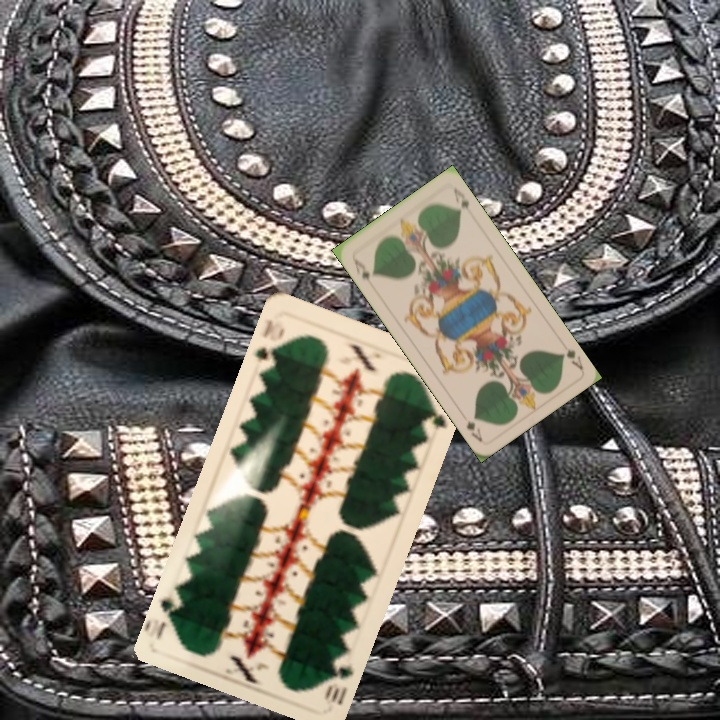G10: (320, 649, 356, 708), (251, 315, 287, 363)
GA: (348, 253, 376, 289), (557, 345, 585, 372)
